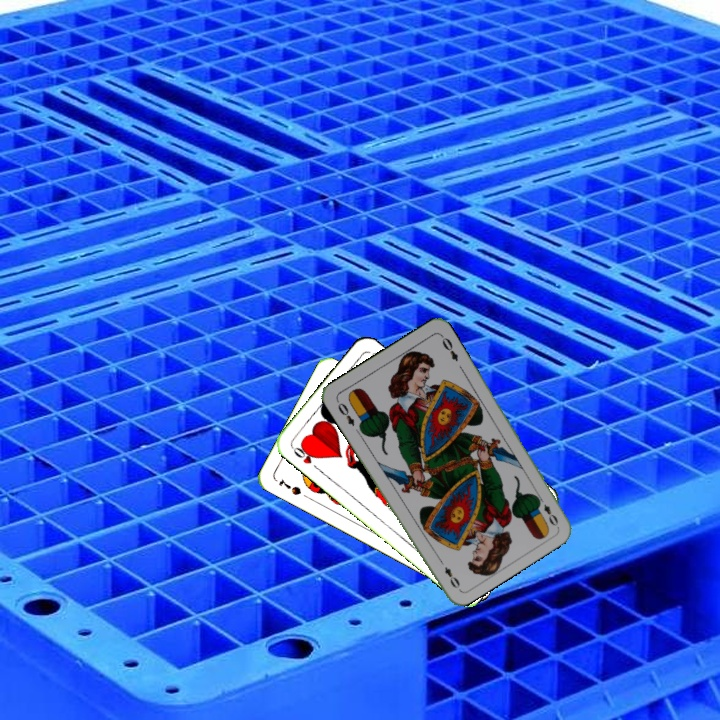EO: (533, 492, 561, 529), (332, 396, 357, 429)
HO: (288, 441, 322, 473)
S7: (275, 474, 304, 498)
